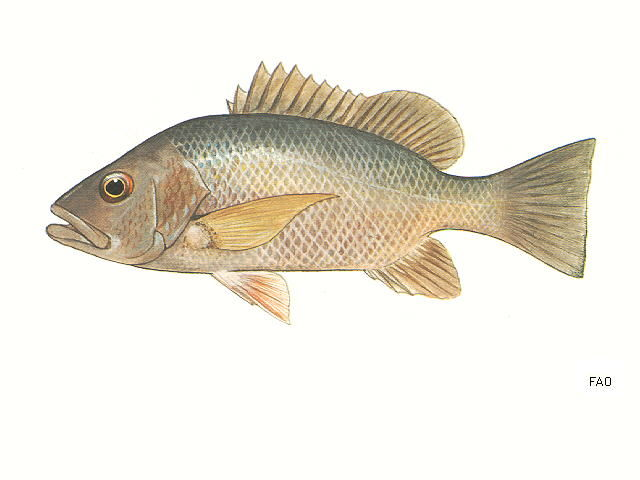fish: (45, 60, 595, 326)
